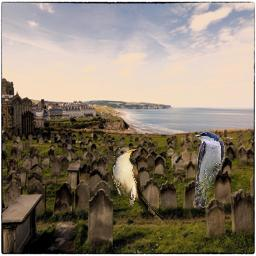Cuckoo: (111, 146, 165, 224)
Swallow: (192, 131, 225, 208)
